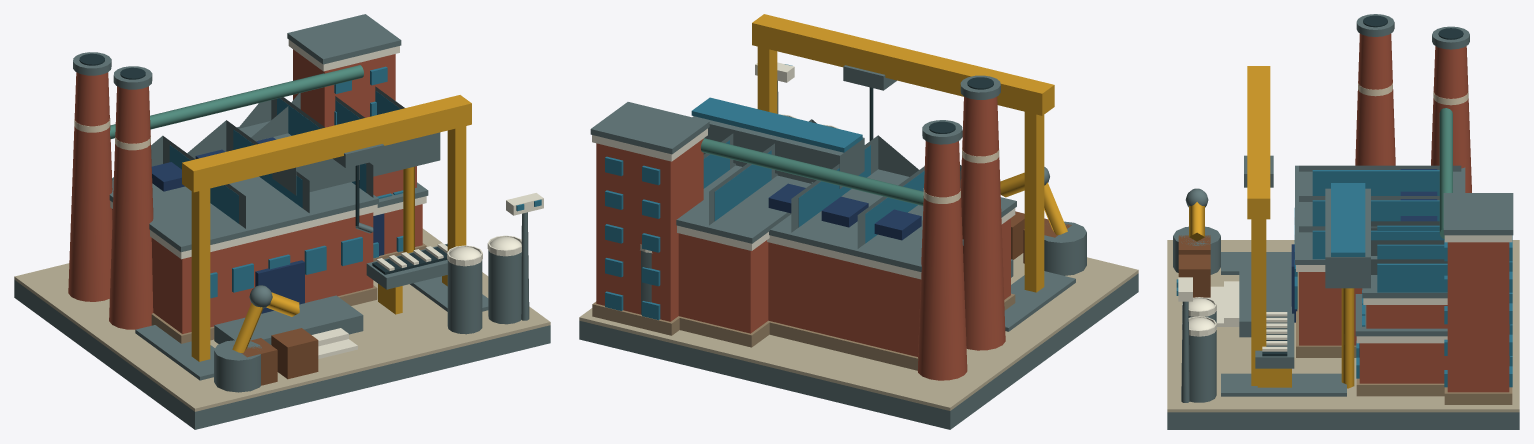
Rendered from factory-lv5.glb.
3 renders of one model, left to right at view 1: azimuth 30°, elevation 25°; view 2: azimuth 150°, elevation 25°; view 3: azimuth 270°, elevation 25°, orthographic. The views are drawn at different scales.
Visible parts, largest first — view 1: chimney_clay, foundation_paving, main_workshop_clay, foundation_iron, gantry_beam_ochre, main_workshop_roof_iron, gantry_posts_ochre, material_silos_iron, process_tower_clay, logistics_bridge_iron, loading_platform_iron, process_tower_roof_iron (+31 smaller); view 2: chimney_clay, foundation_paving, main_workshop_clay, process_tower_clay, foundation_iron, gantry_beam_ochre, second_workshop_clay, gantry_posts_ochre, main_workshop_roof_iron, second_workshop_roof_iron, process_tower_roof_iron, bridge_roof_glass (+22 smaller); view 3: foundation_paving, process_tower_clay, chimney_clay, foundation_iron, main_workshop_skylights_glass, gantry_beam_ochre, warehouse_clay, second_workshop_skylights_glass, gantry_foot_iron, main_workshop_clay, process_tower_roof_iron, bridge_roof_glass (+34 smaller).
Part boxes in pixels (left/top/right/bottom): chimney_clay: left=68, top=72, right=153, bottom=329; foundation_paving: left=14, top=228, right=550, bottom=411; main_workshop_clay: left=112, top=209, right=373, bottom=333; foundation_iron: left=14, top=280, right=550, bottom=429; gantry_beam_ochre: left=182, top=95, right=471, bottom=192; main_workshop_roof_iron: left=109, top=176, right=378, bottom=252; gantry_posts_ochre: left=191, top=126, right=466, bottom=361; material_silos_iron: left=447, top=250, right=521, bottom=334; process_tower_clay: left=293, top=49, right=395, bottom=127; logistics_bridge_iron: left=272, top=132, right=440, bottom=195; loading_platform_iron: left=214, top=295, right=363, bottom=344; process_tower_roof_iron: left=287, top=14, right=401, bottom=64; chimney_clay: left=917, top=96, right=1005, bottom=380; foundation_paving: left=579, top=253, right=1138, bottom=410; main_workshop_clay: left=768, top=218, right=1010, bottom=356; process_tower_clay: left=596, top=138, right=703, bottom=321; foundation_iron: left=579, top=273, right=1138, bottom=429; gantry_beam_ochre: left=752, top=14, right=1054, bottom=115; second_workshop_clay: left=678, top=233, right=768, bottom=333; gantry_posts_ochre: left=757, top=46, right=1044, bottom=292; main_workshop_roof_iron: left=769, top=169, right=1016, bottom=272; second_workshop_roof_iron: left=676, top=165, right=812, bottom=243; process_tower_roof_iron: left=590, top=102, right=709, bottom=154; bridge_roof_glass: left=691, top=97, right=862, bottom=152; foundation_paving: left=1167, top=240, right=1519, bottom=412; process_tower_clay: left=1447, top=242, right=1509, bottom=392; chimney_clay: left=1355, top=33, right=1471, bottom=192; foundation_iron: left=1167, top=412, right=1519, bottom=429; main_workshop_skylights_glass: left=1312, top=170, right=1444, bottom=259; gantry_beam_ochre: left=1247, top=66, right=1270, bottom=219; warehouse_clay: left=1359, top=343, right=1447, bottom=383; second_workshop_skylights_glass: left=1377, top=225, right=1447, bottom=292; gantry_foot_iron: left=1221, top=252, right=1346, bottom=396; main_workshop_clay: left=1299, top=272, right=1362, bottom=345; process_tower_roof_iron: left=1443, top=193, right=1513, bottom=235; bridge_roof_glass: left=1331, top=183, right=1365, bottom=256.
Size of the model in its own units: 1 by 0.7197 by 0.88.
